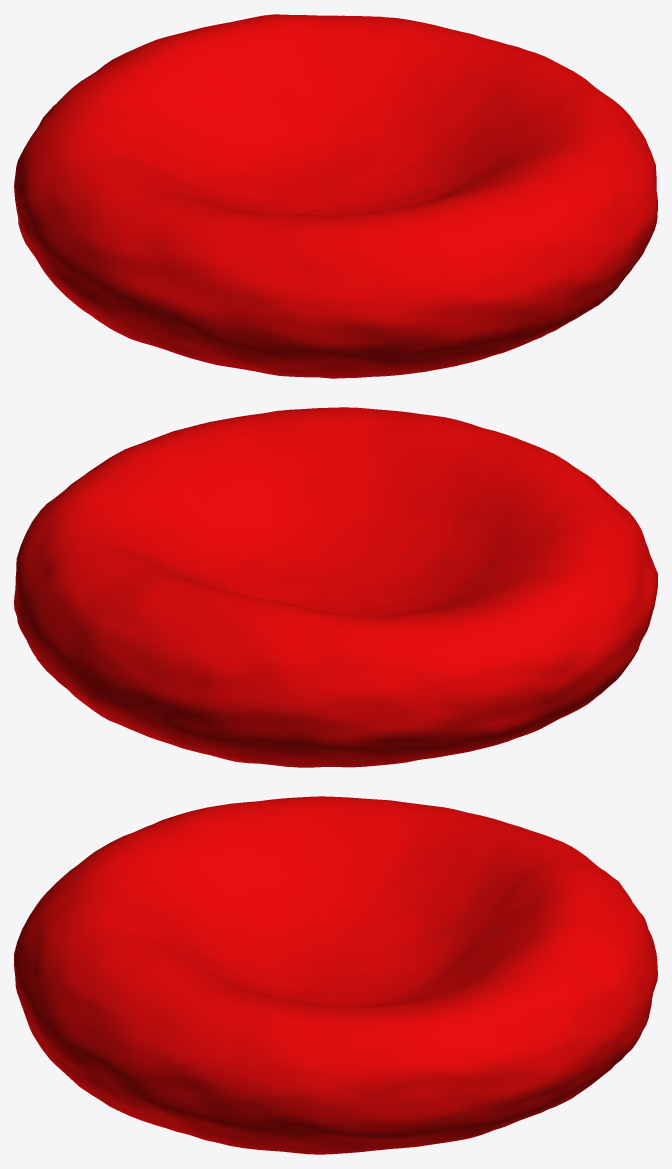
File: blood cell  try 2.fbx
The picture shows the model from 3 angles, top to bottom: view 1: azimuth 30°, elevation 25°; view 2: azimuth 150°, elevation 25°; view 3: azimuth 270°, elevation 25°; orthographic projection.
Visible parts, largest first — view 1: Sphere.001; view 2: Sphere.001; view 3: Sphere.001.
Part boxes in pixels (left/top/right/bottom): Sphere.001: left=14, top=14, right=657, bottom=378; Sphere.001: left=14, top=407, right=657, bottom=767; Sphere.001: left=14, top=796, right=657, bottom=1154.
Size of the model in its own units: 198 by 54.02 by 198.
